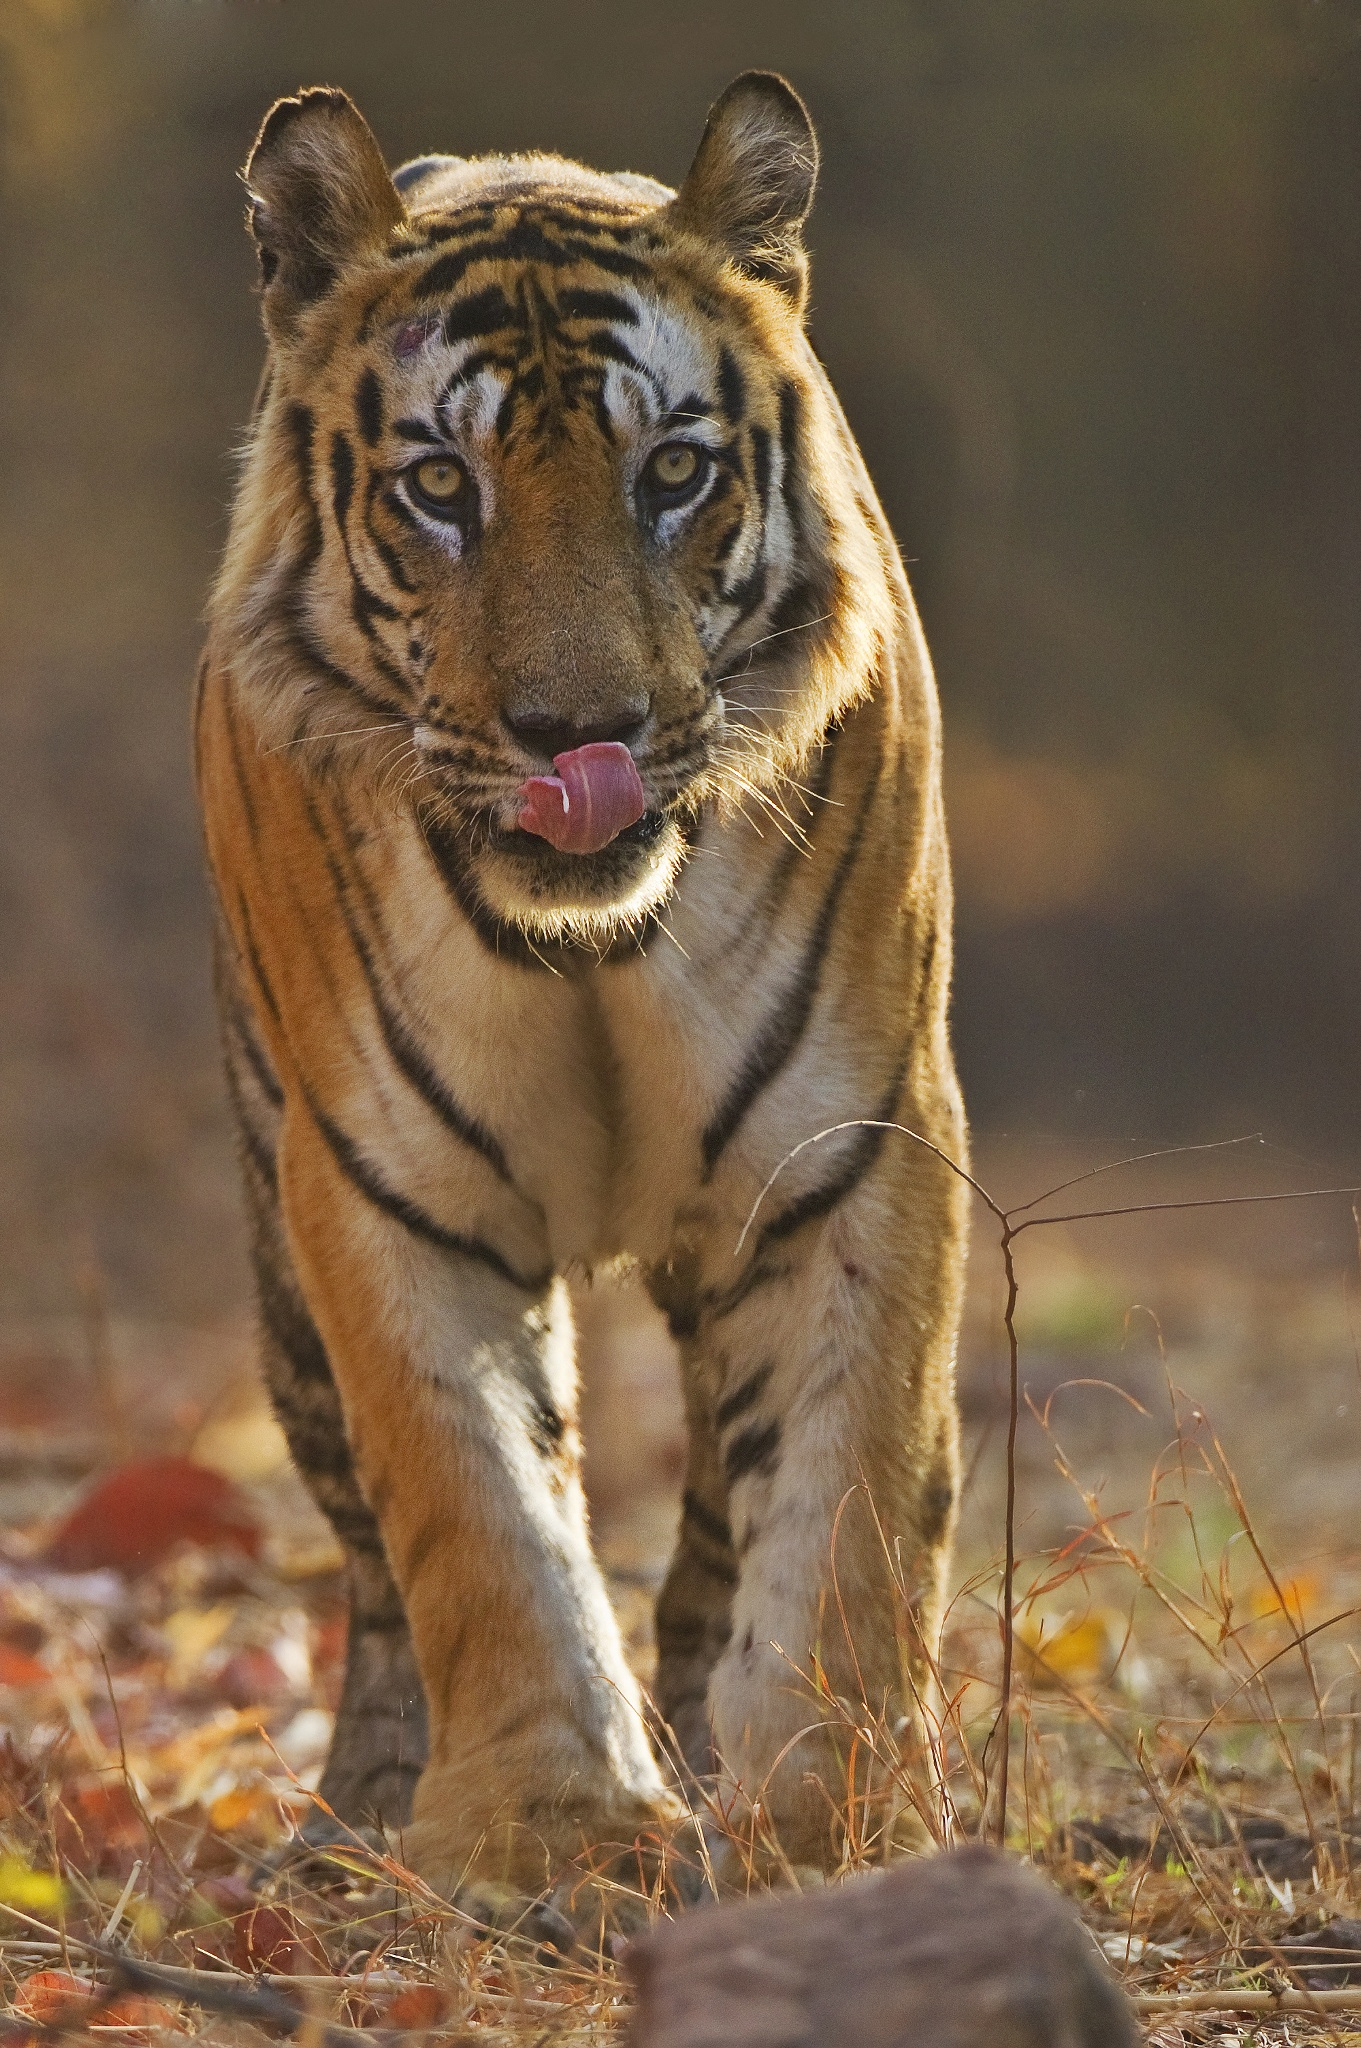tiger: (214, 74, 1030, 1905)
